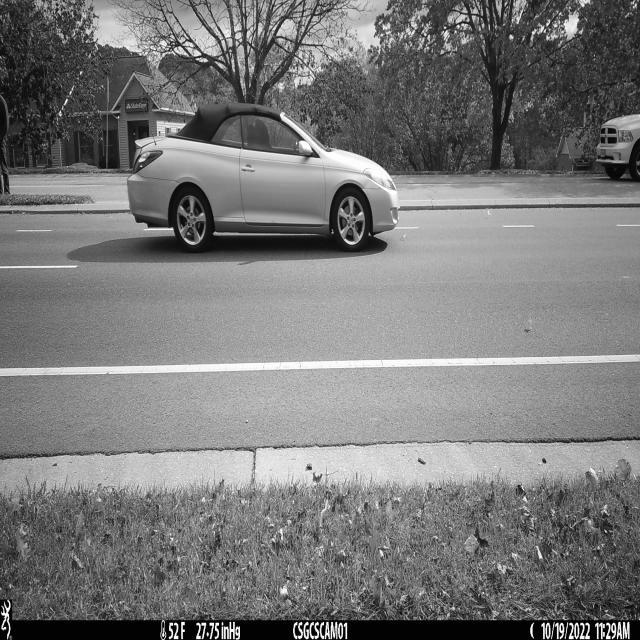Sedan: (125, 103, 400, 254)
